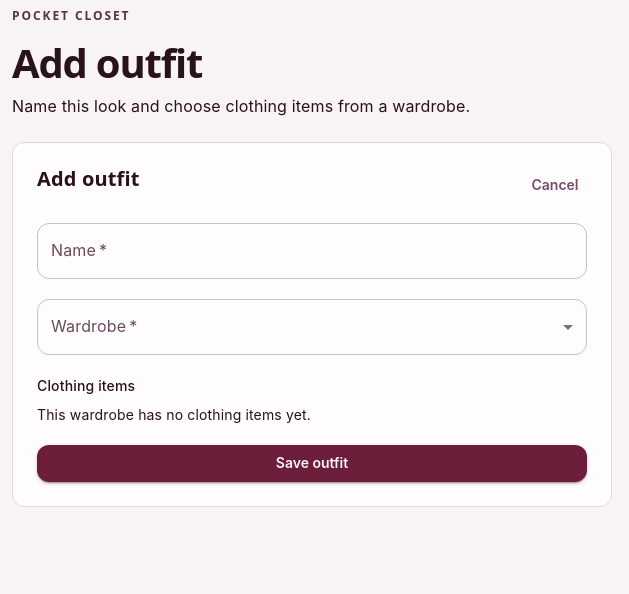
OutfitFormPage › validates name, wardrobe, and items
Step 1. Click the button "Save outfit" → [312, 464], box [37, 445, 587, 482]
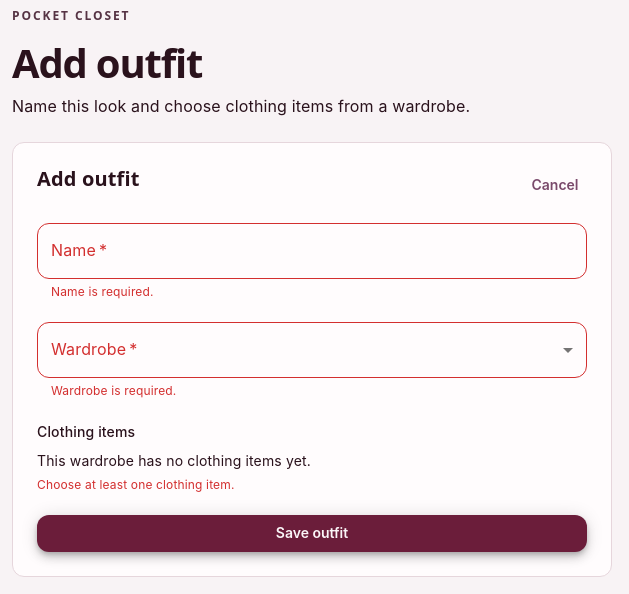
Expected: the text "Name is required." is shown, [51, 284, 154, 299]
Expected: the text "Wardrobe is required." is shown, [51, 383, 176, 398]
Expected: the text "Choose at least one clothing item." is shown, [37, 477, 234, 492]
